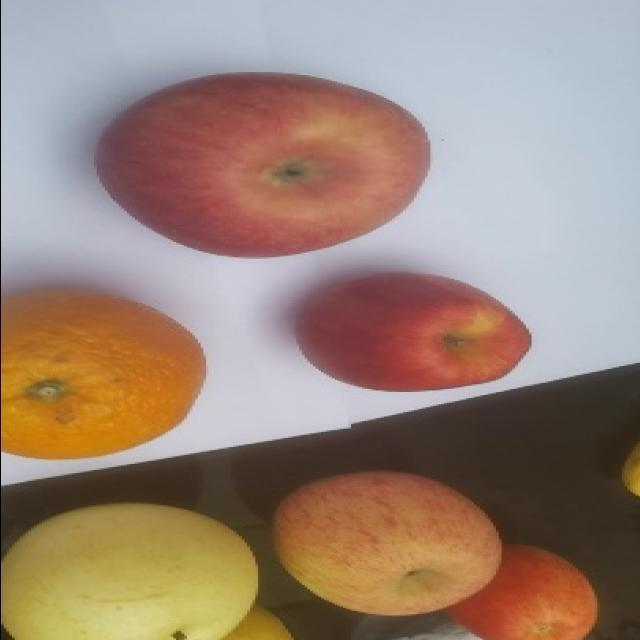Apple: (93, 70, 431, 258), (271, 468, 502, 617), (294, 270, 532, 392), (442, 542, 599, 639)
Orange: (0, 286, 206, 459)
